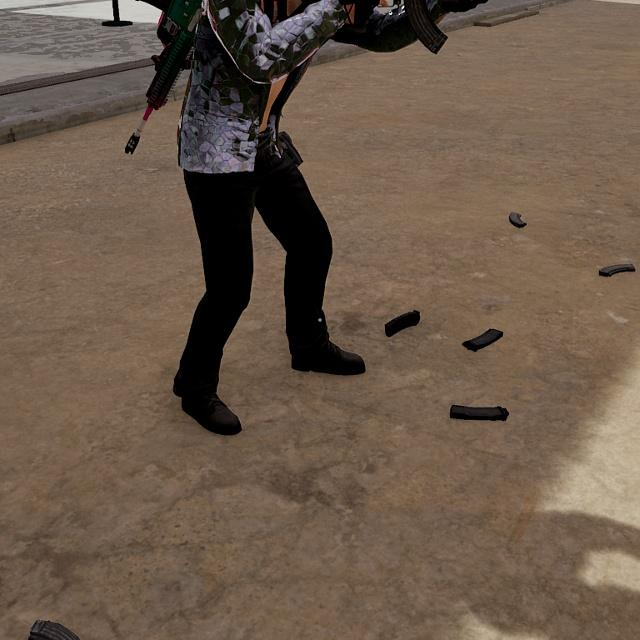people: (137, 0, 381, 447)
